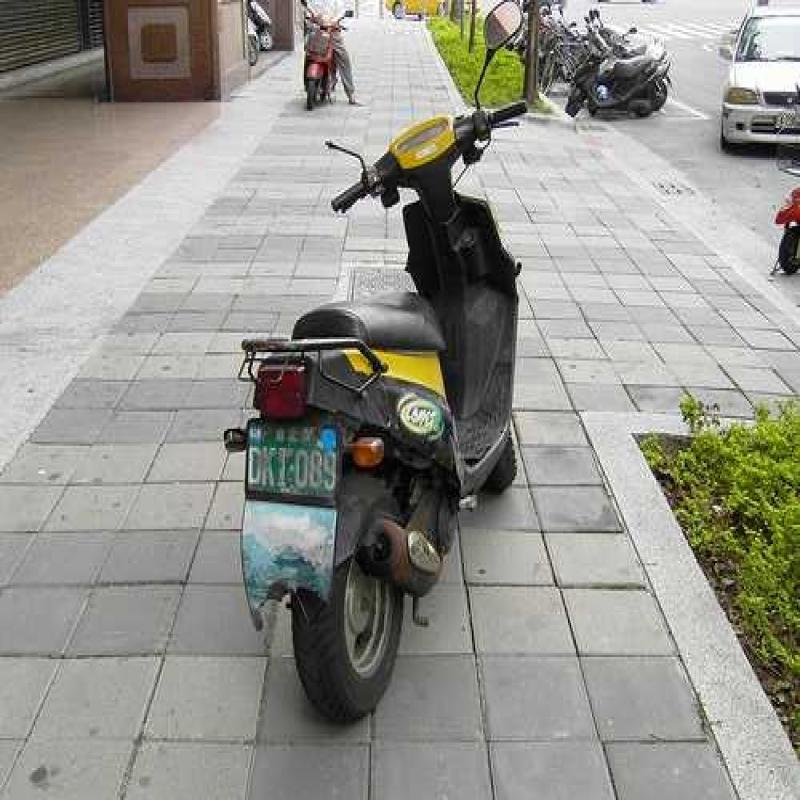bike: (194, 91, 548, 703)
